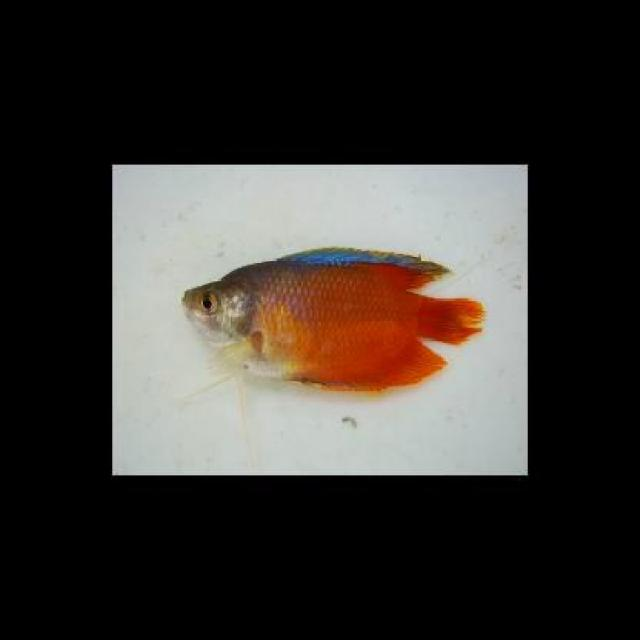Gourami: (180, 241, 488, 396)
